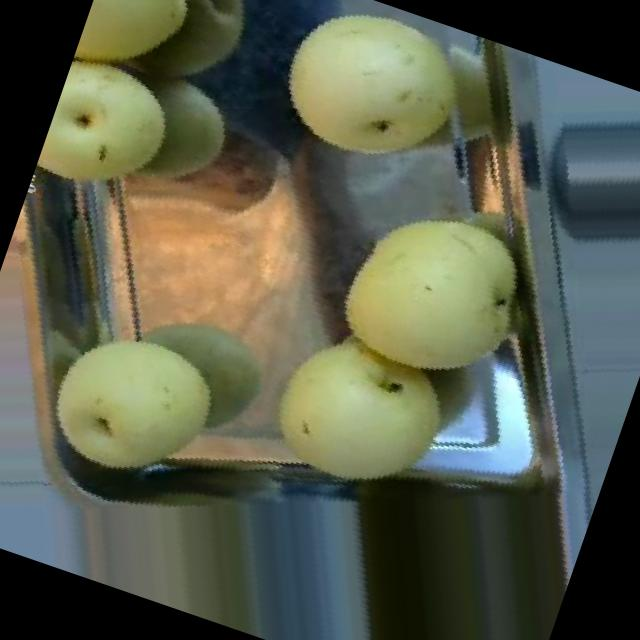Fruit: (41, 72, 418, 426), (209, 273, 502, 556), (298, 166, 564, 428), (7, 284, 260, 532), (247, 0, 494, 208), (22, 44, 204, 245), (72, 0, 227, 95)
